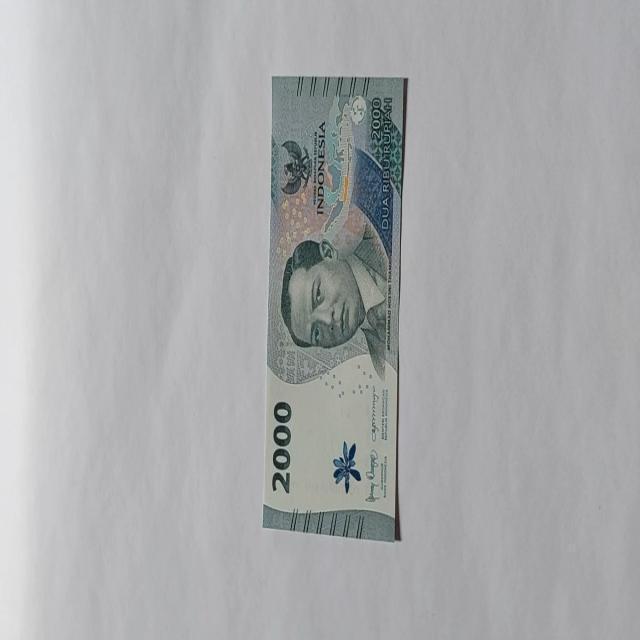dua ribu rupiah: (262, 74, 407, 540), (280, 218, 388, 382)
